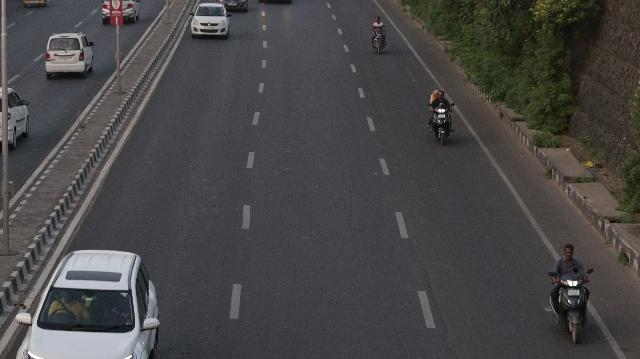Without Helmet: (560, 242, 578, 260), (438, 92, 446, 100), (432, 90, 438, 98)
